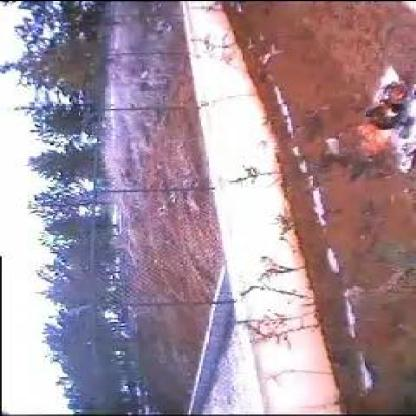-: (340, 148, 362, 161)
foggia-v2-map80-epoch100 - v1 4323: (365, 126, 399, 154)
